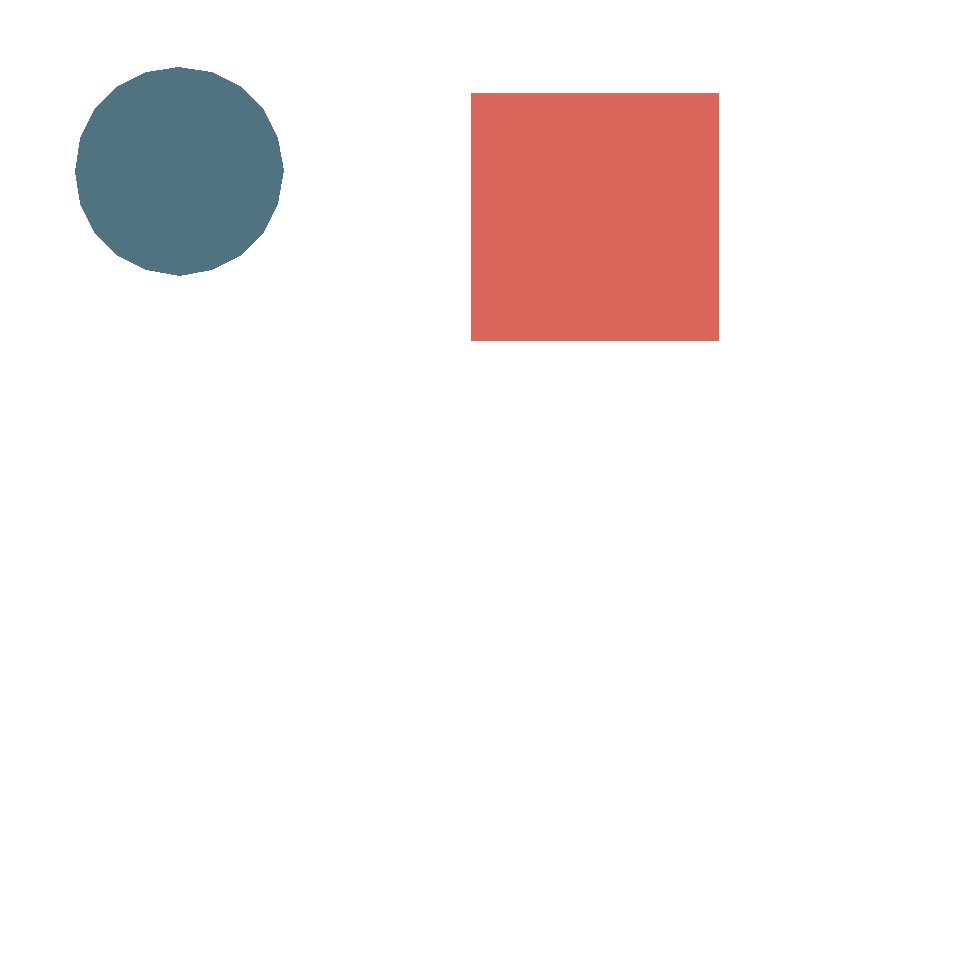circle: (259, 742, 367, 858)
square: (471, 94, 718, 340), (670, 54, 866, 250)
triangle: (376, 110, 655, 389), (75, 67, 283, 275)
